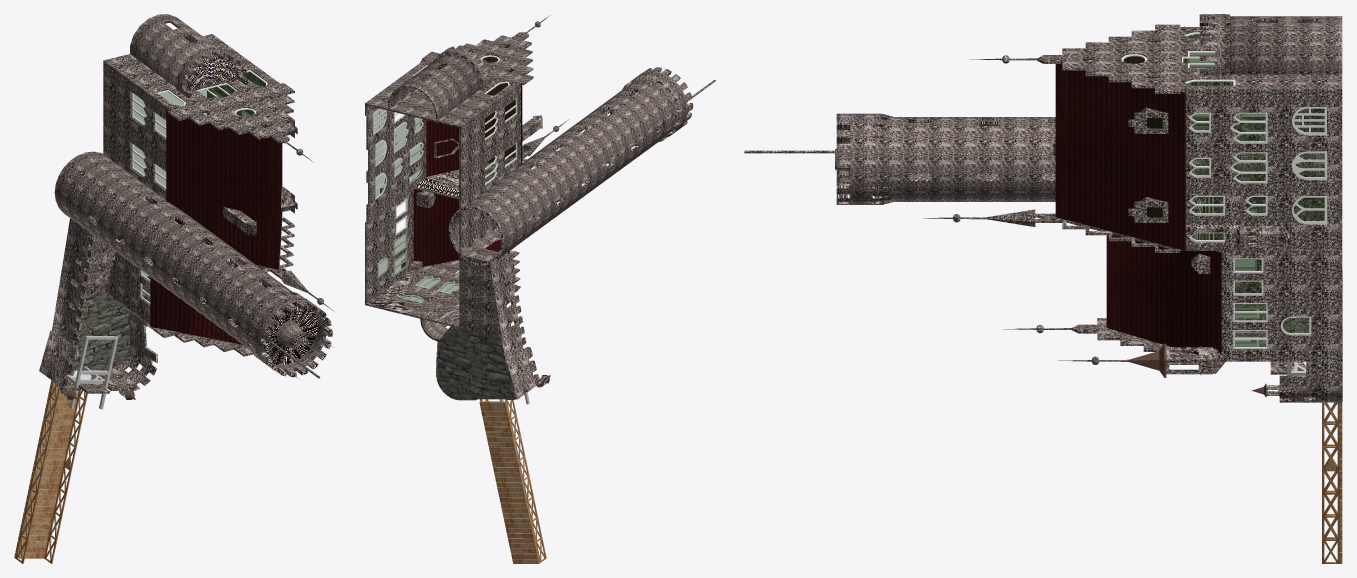
File: T-lich.fbx
The picture shows the model from 3 angles, left to right: view 1: azimuth 30°, elevation 25°; view 2: azimuth 150°, elevation 25°; view 3: azimuth 270°, elevation 25°; orthographic projection. The views are drawn at different scales.
Visible parts, largest first — view 1: lich torre central (×2), lich fachada, lich tejado trasero, lich muralla, lich torre trasera, lich suelo, lich tejado delantero, lich barandilla puente01, lich barandilla puente, lich escalera, lich comple-puerta, lich ventana izquierdas (+2 smaller); view 2: lich fachada, lich torre central, lich suelo, lich torre trasera, lich muralla, lich escalera, lich tejado delantero, lich tejado trasero, lich ventana derechas, lich barandilla puente01, lich torre delantera, lich ventana izquierdas; view 3: lich fachada, lich torre central, lich tejado trasero, lich tejado delantero, lich torre trasera, lich ventana derechas, lich muralla, lich barandilla puente, lich garita, lich buardillas tra.
Part boxes in pixels (x1,y1,x2,y2): lich torre central (×2): (54, 151, 332, 378); lich fachada: (103, 34, 334, 379); lich tejado trasero: (166, 111, 278, 269); lich muralla: (39, 218, 157, 393); lich torre trasera: (130, 14, 248, 98); lich suelo: (70, 292, 130, 370); lich tejado delantero: (150, 266, 242, 344); lich barandilla puente01: (15, 381, 60, 563); lich barandilla puente: (44, 388, 87, 563); lich escalera: (73, 215, 116, 297); lich comple-puerta: (67, 336, 118, 409); lich ventana izquierdas: (131, 92, 166, 304); lich fachada: (365, 15, 569, 327); lich torre central: (448, 67, 715, 265); lich suelo: (437, 325, 514, 399); lich torre trasera: (388, 45, 491, 123); lich muralla: (436, 252, 539, 400); lich escalera: (461, 246, 504, 336); lich tejado delantero: (413, 188, 459, 266); lich tejado trasero: (420, 45, 515, 176); lich ventana derechas: (373, 108, 423, 277); lich barandilla puente01: (505, 399, 546, 562); lich torre delantera: (420, 291, 459, 341); lich ventana izquierdas: (485, 98, 517, 185); lich fachada: (923, 24, 1342, 361); lich torre central: (744, 113, 1342, 204); lich tejado trasero: (1055, 64, 1185, 251); lich tejado delantero: (1106, 234, 1221, 354); lich torre trasera: (1199, 14, 1342, 75); lich ventana derechas: (1189, 107, 1327, 348); lich muralla: (1270, 361, 1342, 402); lich barandilla puente: (1322, 402, 1339, 563); lich garita: (1058, 346, 1226, 375); lich buardillas tra: (1128, 107, 1168, 222).
Size of the model in its own units: 94.4 by 219 by 194.
